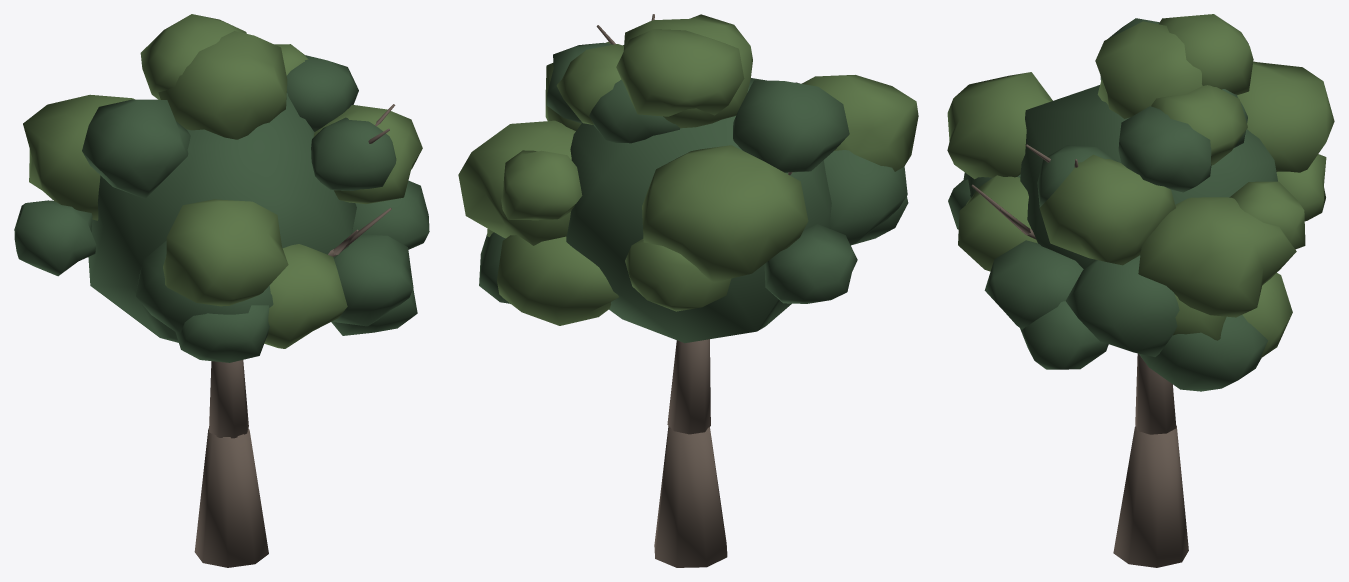
File: node_tree_oak_0.glb
3 views of the same model, side by side, from view 1: azimuth 30°, elevation 25°; view 2: azimuth 150°, elevation 25°; view 3: azimuth 270°, elevation 25° (orthographic). The views are drawn at different scales.
Visible parts, largest first — view 1: blob.023, blob.004, blob.012, cyl, blob.019, blob.006, blob.016, blob.007, blob.011, blob.021, blob.009, blob.020 (+6 smaller); view 2: blob.023, blob.006, blob.020, blob.019, cyl, blob.018, blob.022, blob.004, blob.021, blob.003, blob, blob.014 (+7 smaller); view 3: blob.022, blob.023, blob.002, cyl, blob.004, blob.005, blob.006, blob.012, blob.015, blob.013, blob.007, blob.016 (+10 smaller).
Part boxes in pixels (x1,y1,x2,y2): blob.023: [88, 93, 356, 342]; blob.004: [163, 199, 288, 306]; blob.012: [158, 31, 287, 139]; cyl: [194, 428, 268, 567]; blob.019: [82, 99, 190, 198]; blob.006: [23, 94, 134, 220]; blob.016: [264, 244, 347, 348]; blob.007: [333, 234, 413, 326]; blob.011: [311, 117, 396, 190]; blob.021: [14, 200, 96, 276]; blob.009: [175, 305, 269, 362]; blob.020: [140, 14, 246, 99]; blob.023: [566, 78, 831, 343]; blob.006: [642, 145, 808, 282]; blob.020: [616, 29, 744, 116]; blob.019: [733, 80, 849, 172]; cyl: [654, 426, 727, 567]; blob.018: [497, 235, 618, 325]; blob.022: [458, 120, 575, 245]; blob.004: [801, 75, 918, 171]; blob.021: [764, 224, 857, 303]; blob.003: [823, 150, 907, 244]; blob: [501, 150, 582, 220]; blob.014: [625, 239, 731, 311]; blob.022: [1138, 197, 1296, 317]; blob.023: [1020, 85, 1277, 268]; blob.002: [1039, 154, 1175, 265]; cyl: [1113, 426, 1188, 567]; blob.004: [947, 72, 1052, 179]; blob.005: [1066, 255, 1179, 356]; blob.006: [1237, 61, 1334, 172]; blob.012: [1095, 21, 1202, 118]; blob.015: [1118, 106, 1211, 192]; blob.013: [1139, 315, 1267, 391]; blob.007: [984, 240, 1083, 329]; blob.016: [958, 175, 1037, 271].
Size of the model in its own units: 6.81 by 9.21 by 6.15.
